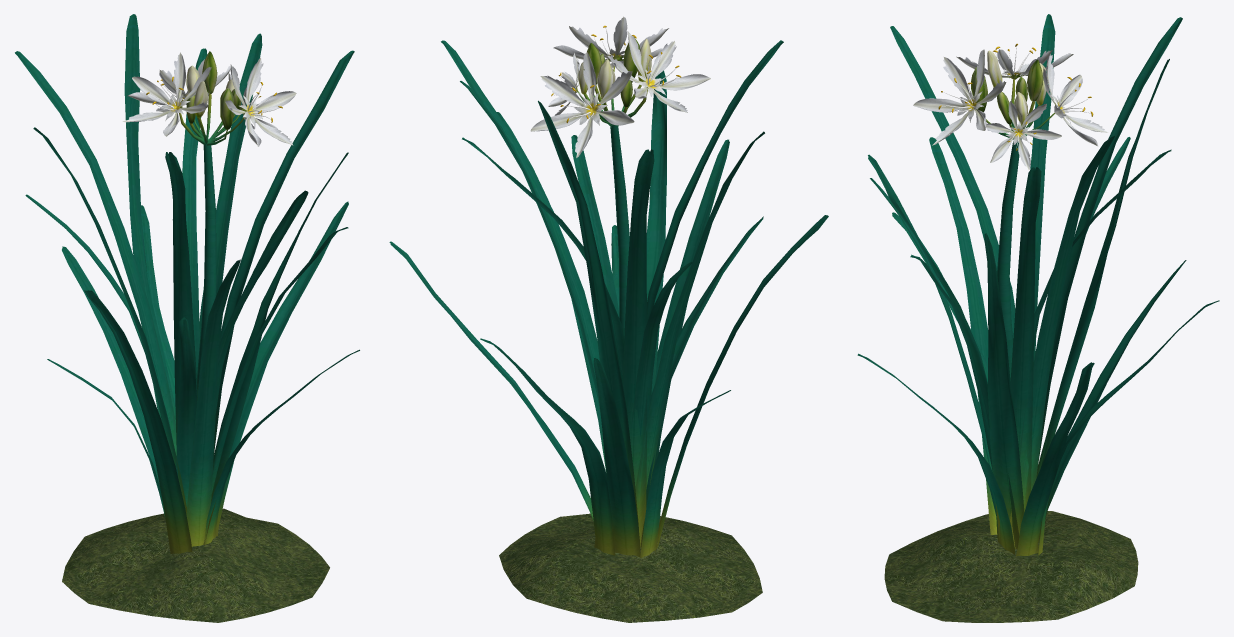
The model's file is Giglio.glb.
3 renders of one model, left to right at view 1: azimuth 30°, elevation 25°; view 2: azimuth 150°, elevation 25°; view 3: azimuth 270°, elevation 25°, orthographic. The views are drawn at different scales.
Parts seen in each view (by area): view 1: Foglie, Erba2, Giglio, FioreGiglioBianco3.003, FioreGiglioBianco3.001, Plane.055, FioreGiglioBianco3.002; view 2: Foglie, Erba2, FioreGiglioBianco3.002, FioreGiglioBianco3.003, Giglio, FioreGiglioBianco3.001; view 3: Foglie, Erba2, FioreGiglioBianco3.001, Giglio, FioreGiglioBianco3.004, FioreGiglioBianco3.002, FioreGiglioBianco3.003, GamboGiglio.002.
Boxes of the visible parts, bbox=[...] form: Foglie: bbox=[15, 14, 359, 553]; Erba2: bbox=[62, 508, 329, 622]; Giglio: bbox=[197, 143, 216, 400]; FioreGiglioBianco3.003: bbox=[122, 52, 211, 136]; FioreGiglioBianco3.001: bbox=[225, 57, 296, 146]; Plane.055: bbox=[179, 94, 244, 145]; FioreGiglioBianco3.002: bbox=[127, 59, 232, 112]; Foglie: bbox=[389, 40, 828, 558]; Erba2: bbox=[499, 513, 762, 622]; FioreGiglioBianco3.002: bbox=[530, 52, 634, 157]; FioreGiglioBianco3.003: bbox=[607, 31, 710, 112]; Giglio: bbox=[610, 125, 629, 337]; FioreGiglioBianco3.001: bbox=[553, 16, 668, 67]; Foglie: bbox=[857, 14, 1219, 556]; Erba2: bbox=[884, 511, 1138, 622]; FioreGiglioBianco3.001: bbox=[913, 49, 1006, 145]; Giglio: bbox=[997, 141, 1019, 380]; FioreGiglioBianco3.004: bbox=[986, 101, 1061, 170]; FioreGiglioBianco3.002: bbox=[1043, 50, 1107, 146]; FioreGiglioBianco3.003: bbox=[956, 46, 1073, 79]; GamboGiglio.002: bbox=[1027, 59, 1043, 101].
Bounding box in the file's own units: 11.34 × 16.39 × 10.02.
6 materials, 5 textured.
